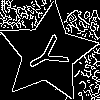Y: (23, 28, 79, 80)
